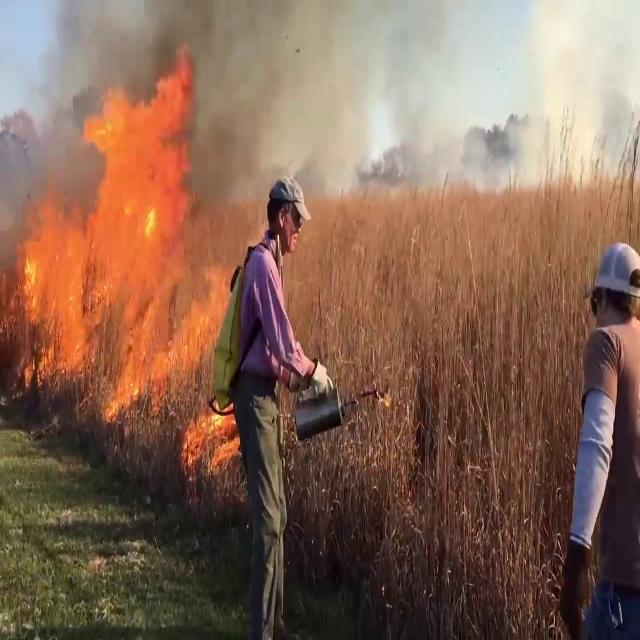Fire: (7, 58, 220, 421)
Smoke: (83, 0, 464, 190)
